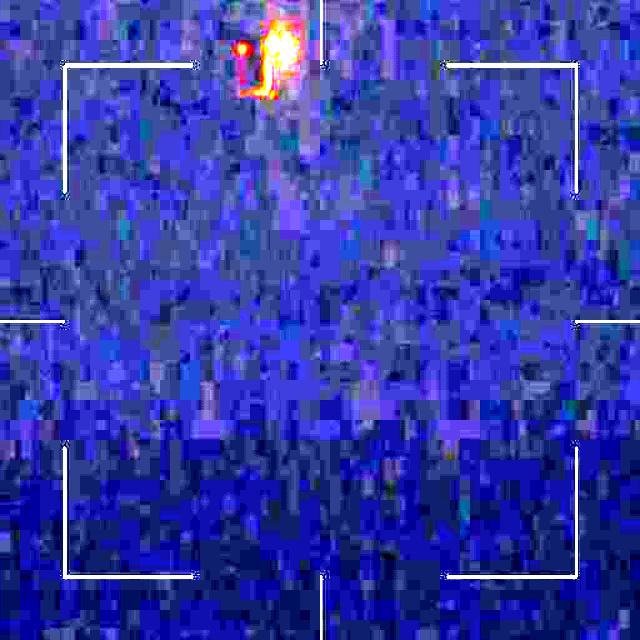bird: (224, 28, 296, 104)
